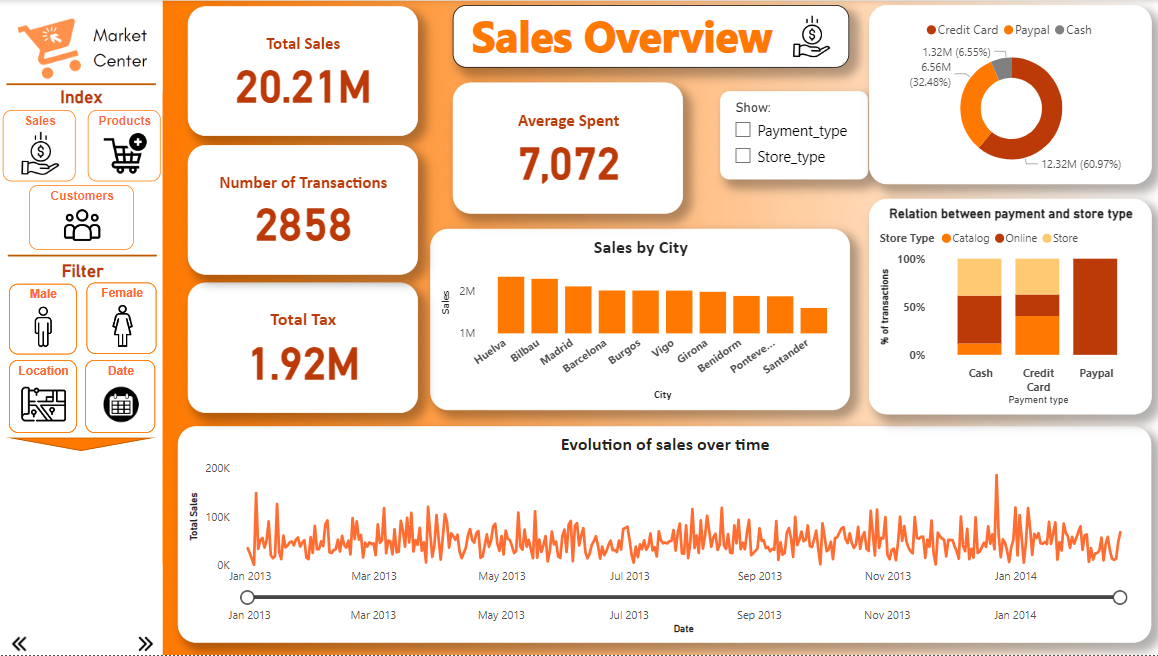

Layout of this report page (visuals, bound fields, positions):
{"tool":"powerbi","page":{"name":"Sales Overview","canvas":[1280,720],"ordinal":0},"visuals":[{"type":"image","box":[179.7,0,1100.2,619.8],"z":0},{"type":"textbox","title":"Sales Overview","box":[498.7,6.1,435.2,68.5],"z":1000},{"type":"image","box":[864.2,12.2,55,55],"z":2000},{"type":"textbox","box":[46.8,90.1,87.7,33.5],"z":3000},{"type":"image","box":[0,0,183.9,97.5],"z":4000},{"type":"image","box":[180,100,1100,620],"z":5000},{"type":"shape","box":[8.3,85.2,163.9,14.8],"z":6000},{"type":"image","title":"Sales","box":[4.2,120.1,80.3,78.1],"z":7000},{"type":"textbox","box":[48.1,280.8,87.7,33.8],"z":8000},{"type":"image","title":"Products","box":[96.8,120.1,80,78.1],"z":9000},{"type":"image","title":"Customers","box":[32.9,202.4,115.2,71.3],"z":10000},{"type":"shape","box":[10,273.4,163.8,15],"z":11000},{"type":"image","box":[140.5,688.9,43.2,31.1],"z":12000},{"type":"image","box":[0,688.9,44.2,31.1],"z":13000},{"type":"image","title":"Location","box":[10.7,395.2,74.4,80],"z":14000},{"type":"image","title":"Location","box":[10.8,395.1,74.6,80],"z":15000},{"type":"image","title":"Date","box":[95.2,395.2,77,80],"z":16000},{"type":"image","title":"Date","box":[95.1,395.1,76.9,80],"z":17000},{"type":"shape","box":[8.4,479.6,163.6,14.8],"z":18000},{"type":"lineChart","title":"Evolution of sales over time","fields":{"Category":["temp1671068008898978552.tran_date.Variation.Jerarquía de fechas.Año","temp1671068008898978552.tran_date.Variation.Jerarquía de fechas.Trimestre","temp1671068008898978552.tran_date.Variation.Jerarquía de fechas.Mes","temp1671068008898978552.tran_date.Variation.Jerarquía de fechas.Día"],"Y":["Sum(temp1671068008898978552.total_amt)"]},"box":[196.2,467.5,1068.8,237.5],"z":21000},{"type":"columnChart","title":"Sales by City","fields":{"Category":["temp1671068008898978552.city"],"Y":["Sum(temp1671068008898978552.total_amt)"]},"box":[473.1,250.6,460.8,199.3],"z":22000},{"type":"cardVisual","fields":{"Data":["Sum(temp1671068008898978552.Tax)"]},"box":[207.1,310,252.9,142.9],"z":23000},{"type":"cardVisual","fields":{"Data":["Sum(temp1671068008898978552.total_amt)"]},"box":[207.5,6.2,252.5,142.5],"z":24000},{"type":"cardVisual","fields":{"Data":["Count(temp1671068008898978552.transaction_id)"]},"box":[207.5,158.8,252.5,142.5],"z":25000},{"type":"cardVisual","fields":{"Data":["temp1671068008898978552.total_amt média por transaction_id"]},"box":[498.7,90.5,253,144.2],"z":26000},{"type":"image","title":"Female","box":[95.6,310,76.9,78.8],"z":27000},{"type":"image","title":"Female","box":[95.9,310,76.9,78.7],"z":28000},{"type":"image","title":"Male","box":[10.6,311.2,74.4,77.5],"z":29000},{"type":"image","title":"Male","box":[10.5,311.3,74.4,77.4],"z":30000},{"type":"slicer","fields":{"Values":["Parameter.Parameter"]},"box":[792.1,100.2,162.6,96.6],"z":31000},{"type":"donutChart","title":"Sales by payment type","fields":{"Category":["temp1671068008898978552.Payment_type","temp1671068008898978552.Store_type"],"Y":["Sum(temp1671068008898978552.total_amt)"]},"box":[954.7,6.1,310.5,196.8],"z":32000},{"type":"hundredPercentStackedColumnChart","title":"Relation between payment and store type","fields":{"Category":["temp1671068008898978552.Payment_type"],"Y":["Sum(temp1671068008898978552.transaction_id)"],"Series":["temp1671068008898978552.Store_type"]},"box":[954.7,217.6,310.5,237.1],"z":33000}]}

Visuals, with their boxes in screenshot pixels (x1, y1, x2, y2), scaled from the page's 1280x720 canvas onto the 1158x656 screenshot:
image: [163, 0, 1157, 565]
"Sales Overview" textbox: [451, 6, 845, 68]
image: [782, 11, 832, 61]
textbox: [42, 82, 122, 113]
image: [0, 0, 166, 89]
image: [163, 91, 1157, 655]
shape: [8, 78, 156, 91]
"Sales" image: [4, 109, 76, 181]
textbox: [44, 256, 123, 287]
"Products" image: [88, 109, 160, 181]
"Customers" image: [30, 184, 134, 249]
shape: [9, 249, 157, 263]
image: [127, 628, 166, 655]
image: [0, 628, 40, 655]
"Location" image: [10, 360, 77, 433]
"Location" image: [10, 360, 77, 433]
"Date" image: [86, 360, 156, 433]
"Date" image: [86, 360, 156, 433]
shape: [8, 437, 156, 450]
"Evolution of sales over time" lineChart: [177, 426, 1144, 642]
"Sales by City" columnChart: [428, 228, 845, 410]
cardVisual - Sum(temp1671068008898978552.Tax): [187, 282, 416, 413]
cardVisual - Sum(temp1671068008898978552.total_amt): [188, 6, 416, 135]
cardVisual - Count(temp1671068008898978552.transaction_id): [188, 145, 416, 275]
cardVisual - temp1671068008898978552.total_amt média por transaction_id: [451, 82, 680, 214]
"Female" image: [86, 282, 156, 354]
"Female" image: [87, 282, 156, 354]
"Male" image: [10, 284, 77, 354]
"Male" image: [9, 284, 77, 354]
slicer - Parameter.Parameter: [717, 91, 864, 179]
"Sales by payment type" donutChart: [864, 6, 1145, 185]
"Relation between payment and store type" hundredPercentStackedColumnChart: [864, 198, 1145, 414]
